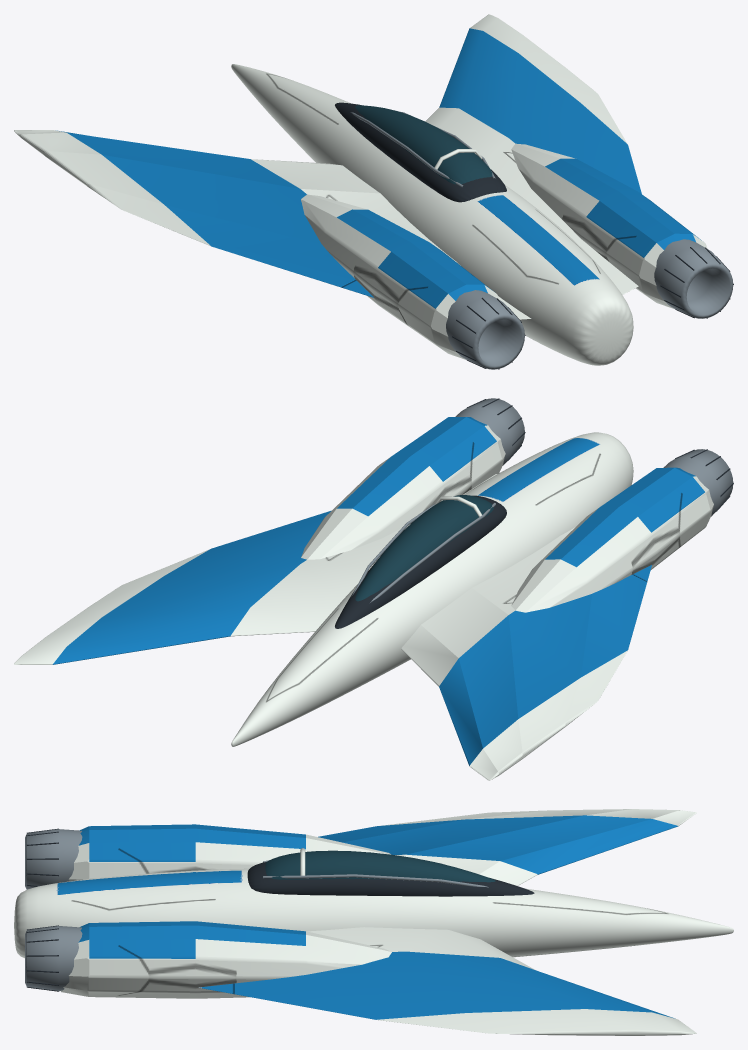
3 views of the same model, one above another, from view 1: azimuth 30°, elevation 25°; view 2: azimuth 150°, elevation 25°; view 3: azimuth 270°, elevation 25° (orthographic). The views are drawn at different scales.
Parts seen in each view (by area): view 1: SpectralSlipV2; view 2: SpectralSlipV2; view 3: SpectralSlipV2.
Boxes of the visible parts, x1,y1,x2,y2 form: SpectralSlipV2: (14,14,733,369); SpectralSlipV2: (14,398,733,780); SpectralSlipV2: (14,809,733,1035).
Bounding box in the file's own units: 2.62 × 0.6313 × 3.58.
Materials: 6 (2 with a texture image).
